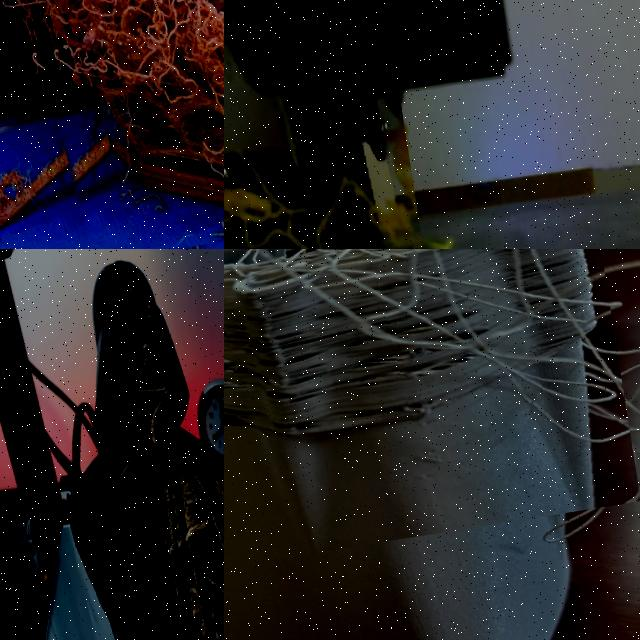spaghetti: (224, 249, 631, 510), (224, 117, 423, 249)
